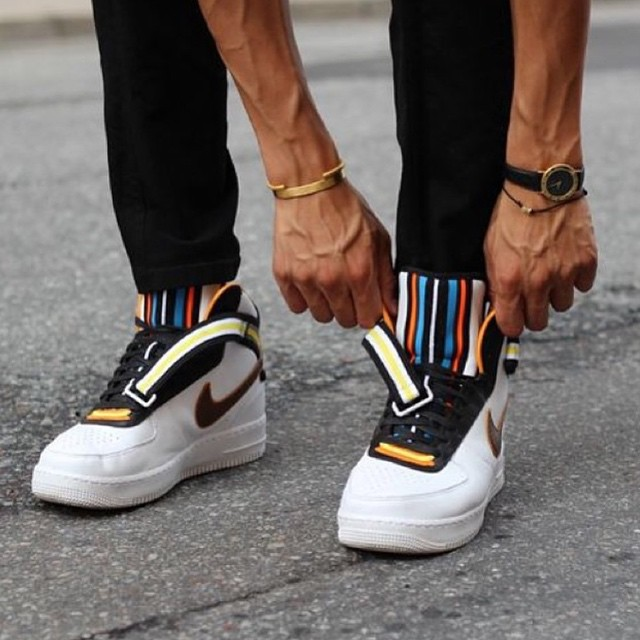sneaker: (13, 272, 296, 522), (320, 263, 536, 578)
